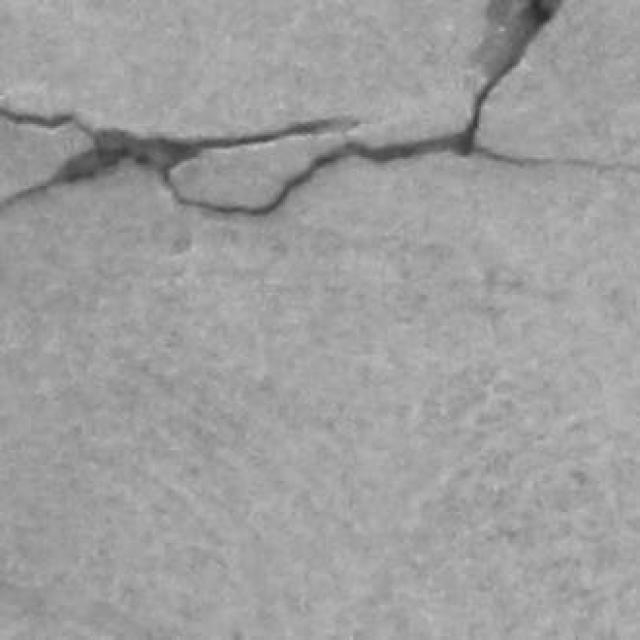crack: (0, 0, 562, 215), (163, 134, 461, 215), (464, 0, 562, 155)
